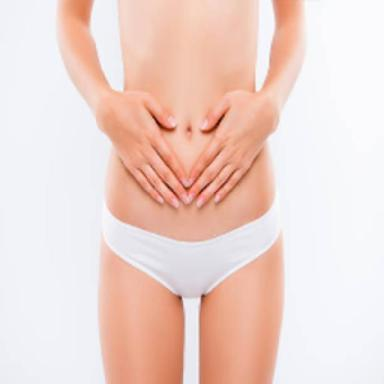normal skin: (58, 0, 304, 240), (200, 238, 283, 384), (99, 244, 183, 384)
